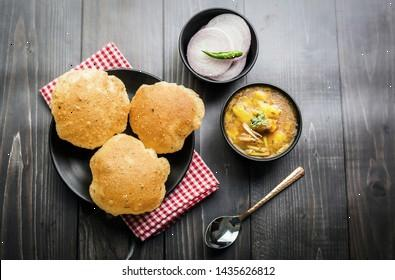puri: (54, 73, 198, 217)
